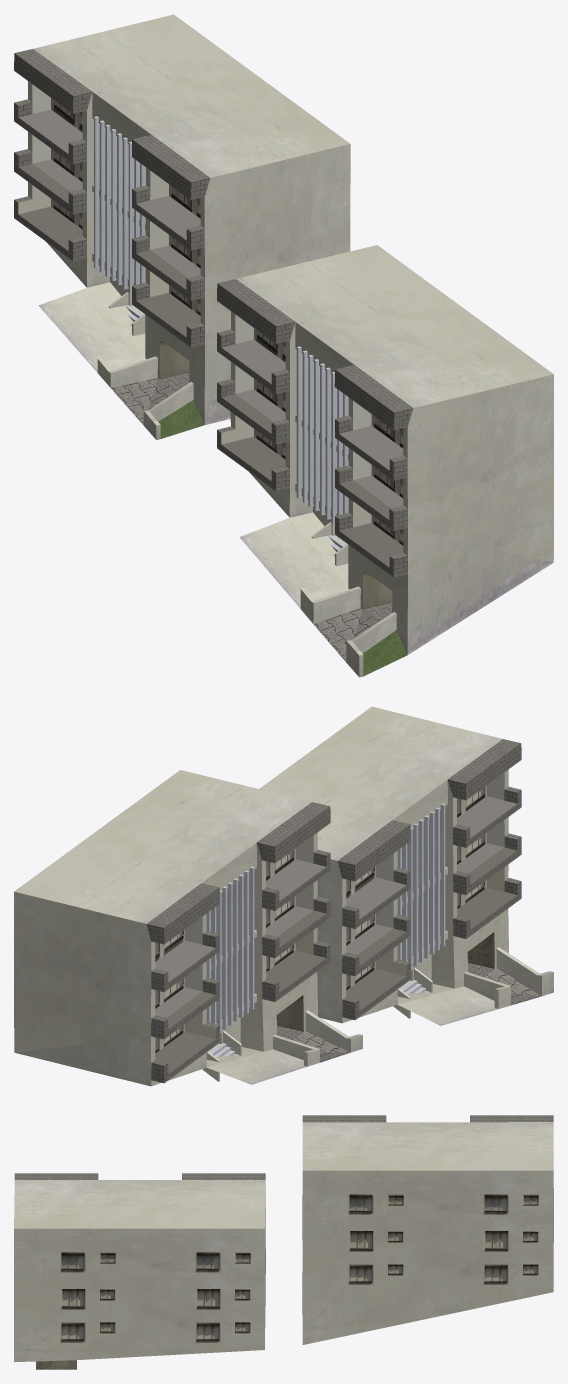
File: beachaparta5a.obj
The picture shows the model from 3 angles, top to bottom: view 1: azimuth 30°, elevation 25°; view 2: azimuth 150°, elevation 25°; view 3: azimuth 270°, elevation 25°; orthographic projection. The views are drawn at different scales.
Visible parts, largest first — view 1: BeachApartA5a; view 2: BeachApartA5a; view 3: BeachApartA5a.
Part boxes in pixels (x1,y1,x2,y2): BeachApartA5a: (14, 14, 553, 677); BeachApartA5a: (14, 706, 553, 1086); BeachApartA5a: (14, 1115, 553, 1369).
Size of the model in its own units: 13.93 by 23.05 by 47.03.
